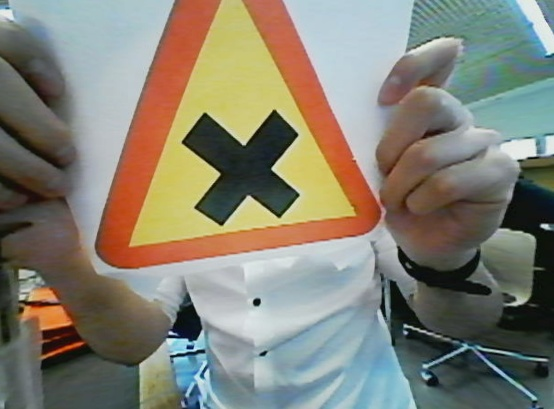junction: (99, 5, 372, 269)
